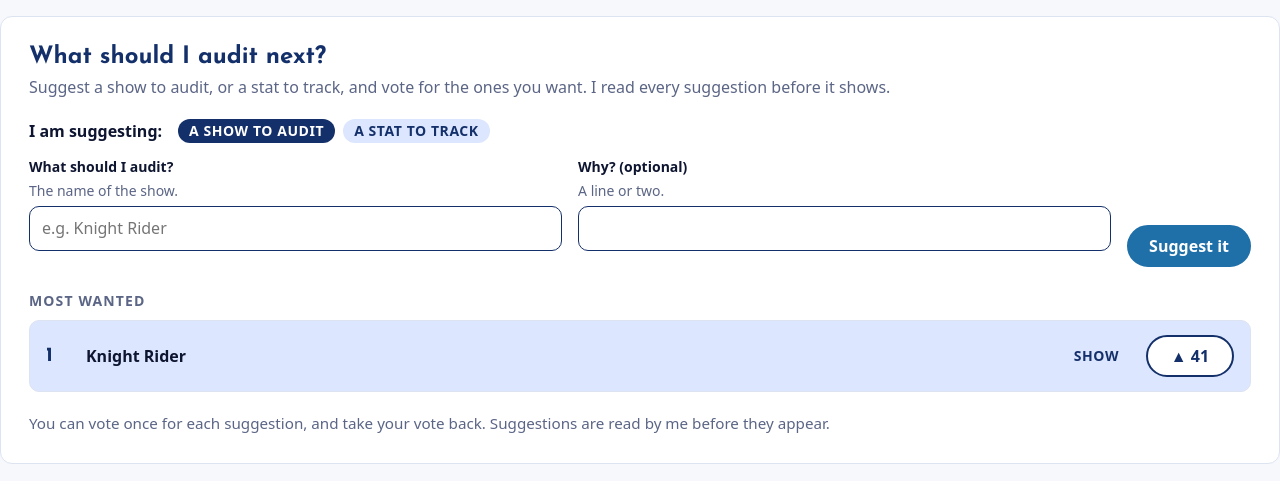
it: Book Club members, and the owner › a Book Club pass that is active can suggest, and vote
Expected: the field labelled "What should I audit?" is shown, [29,206,562,251]
Click the button named "Vote for Knight Rider".
click(1190, 356)  # box [1146,335,1234,377]
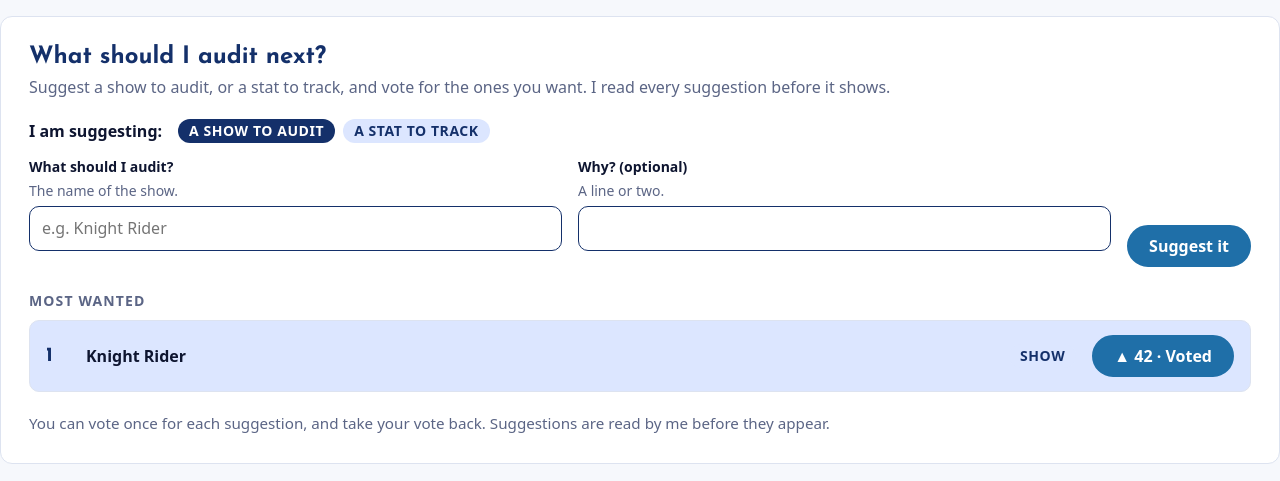
Expected: the button with aria-label "Take back your vote for Knight Rider. 42 votes" is shown, [1092,335,1234,377]
